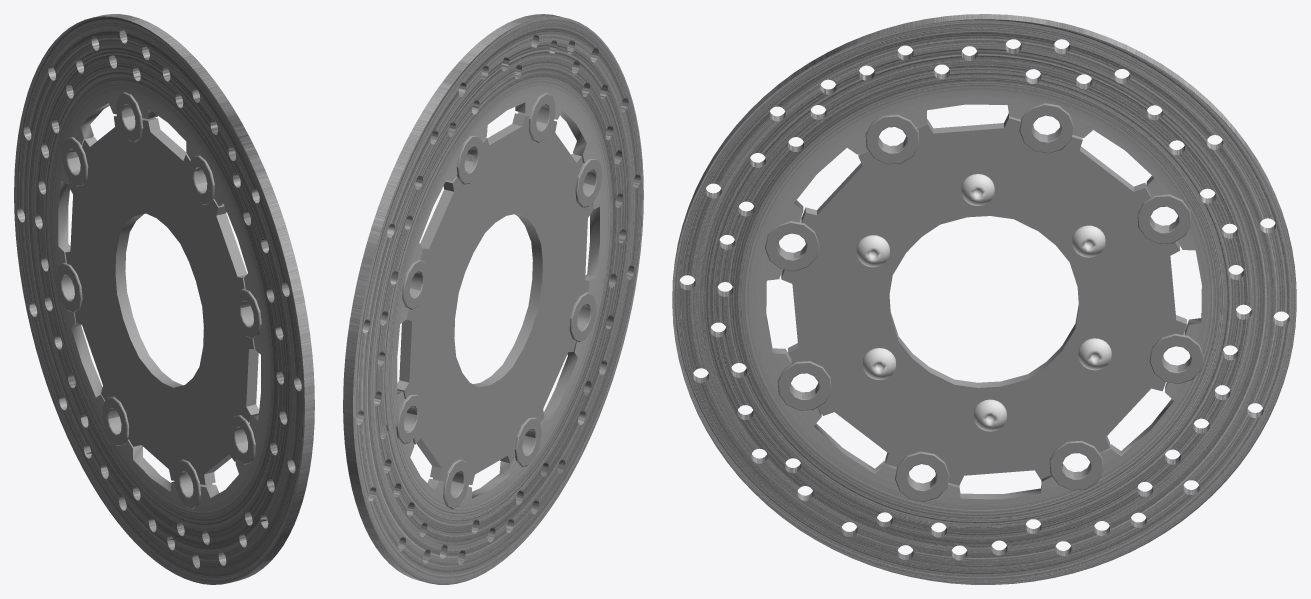
File: RearRotor_STOCK.glb
3 views of the same model, side by side, from view 1: azimuth 30°, elevation 25°; view 2: azimuth 150°, elevation 25°; view 3: azimuth 270°, elevation 25° (orthographic). The views are drawn at different scales.
Parts seen in each view (by area): view 1: RearBrakeRotor_STOCK; view 2: RearBrakeRotor_STOCK; view 3: RearBrakeRotor_STOCK.
Boxes of the visible parts, x1,y1,x2,y2 form: RearBrakeRotor_STOCK: (14,14,314,584); RearBrakeRotor_STOCK: (343,14,643,584); RearBrakeRotor_STOCK: (672,14,1296,584).
Bounding box in the file's own units: 0.0115 × 0.2779 × 0.278.
3 materials, 1 textured.
